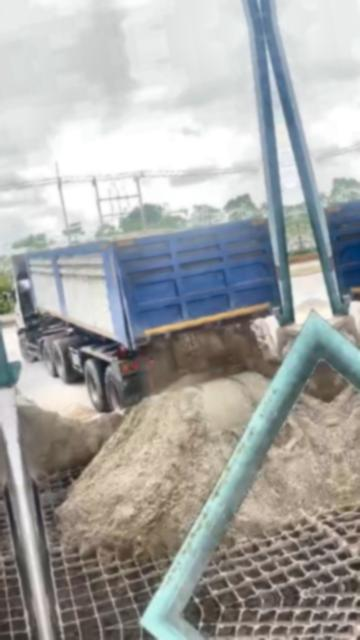sand: (59, 372, 266, 555), (231, 395, 343, 539), (140, 320, 265, 394), (18, 399, 121, 478), (253, 316, 281, 376), (306, 360, 329, 402), (106, 228, 182, 240), (278, 323, 302, 357)
